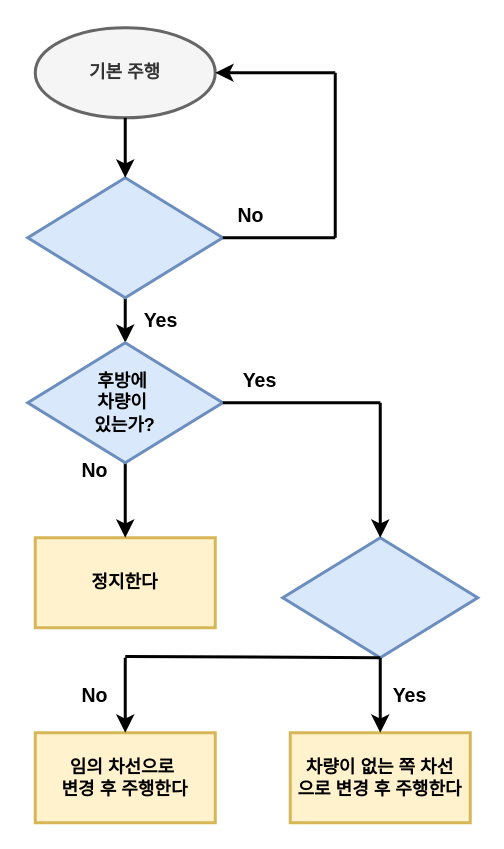
Some shapes in this 504 by 849 pixel diagram are drawn without their labels. Each missing label, with the centre of its shape:
"인접 차선에 차량이 있는가?" goes at point (379, 597).
"전방에 특이사항이 있는가?" goes at point (125, 237).
